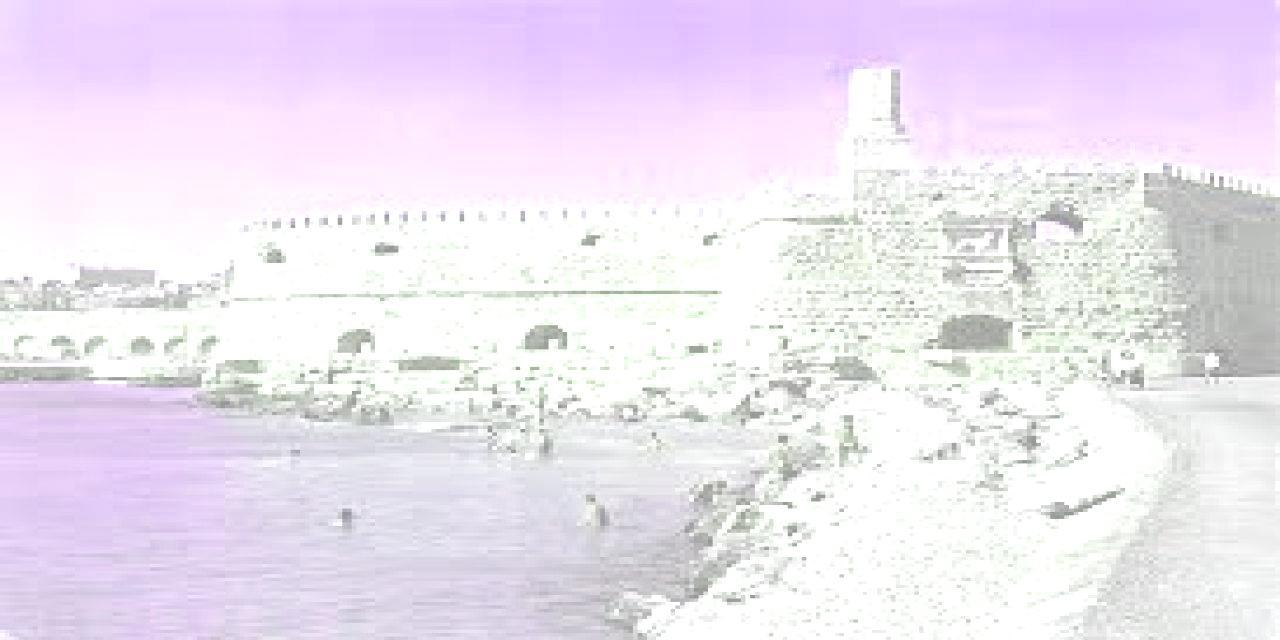Kules: (219, 71, 1280, 382)
